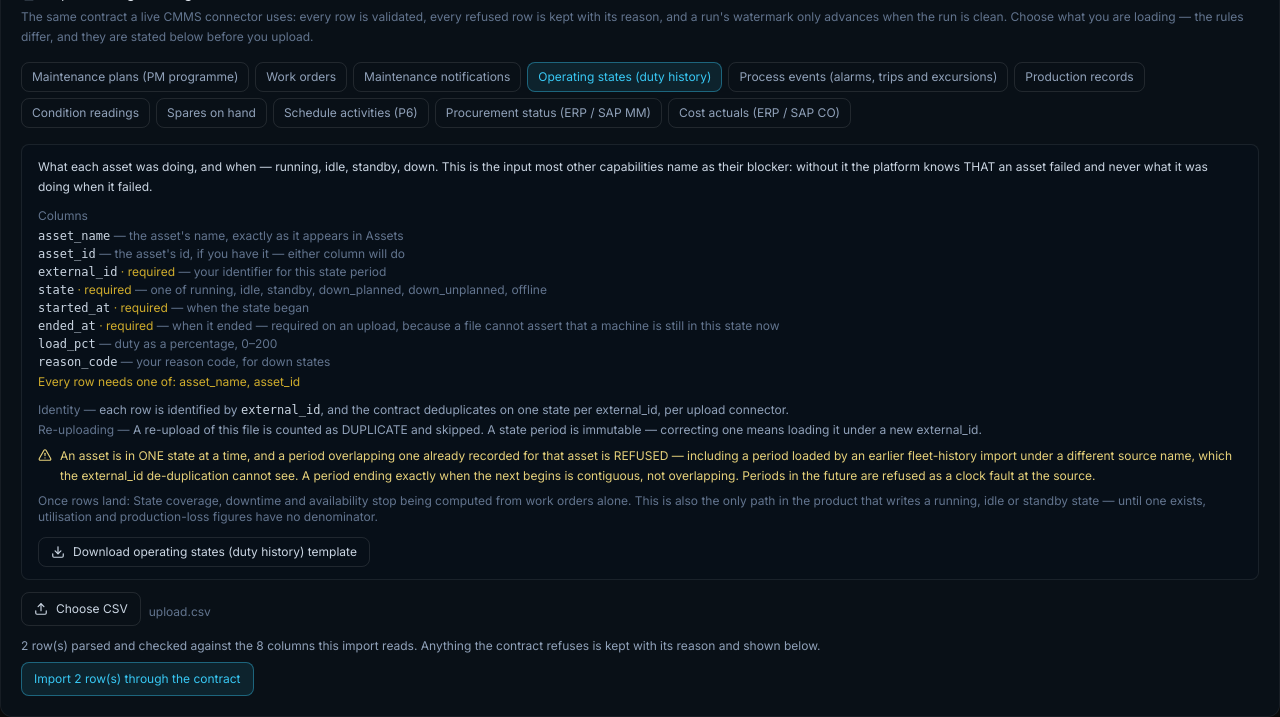
Test: the caller never picks the validator › opens the run for the SELECTED entity type and posts rows to ingest_rows
The width and height of the screenshot is (1280, 717).
Earlier steps of the test are not shown.
(page scrolled)
Click the button "Import 2 row(s) through the contract": x=137, y=679 top-left (21, 662), bottom-right (254, 696)
(page scrolled)
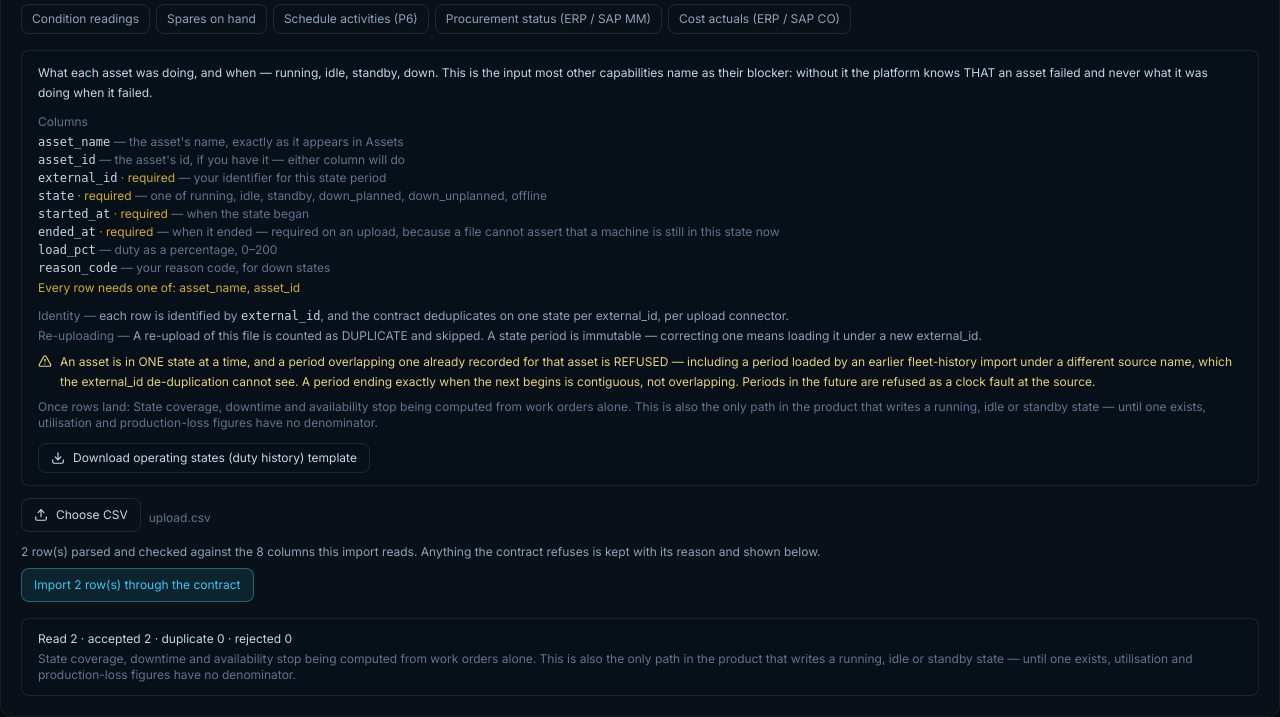
Expected: the text "accepted 2" is shown, top-left (21, 618), bottom-right (1259, 696)
